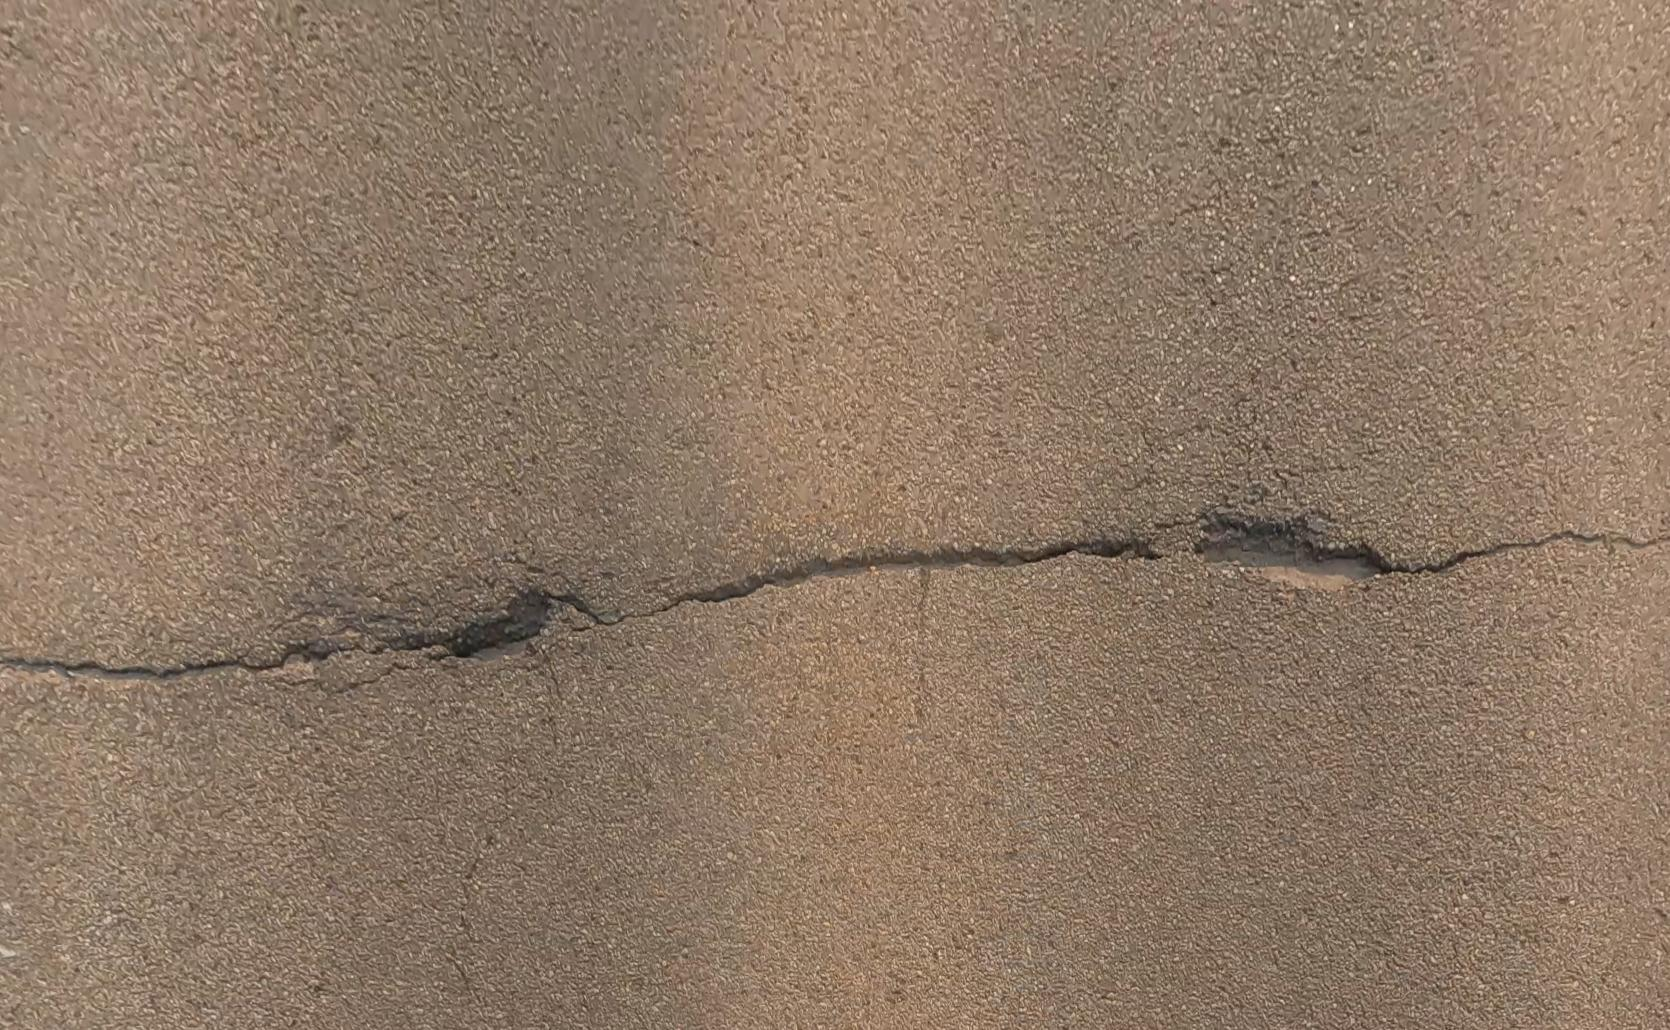pothole: (1194, 519, 1390, 592), (449, 586, 558, 662)
